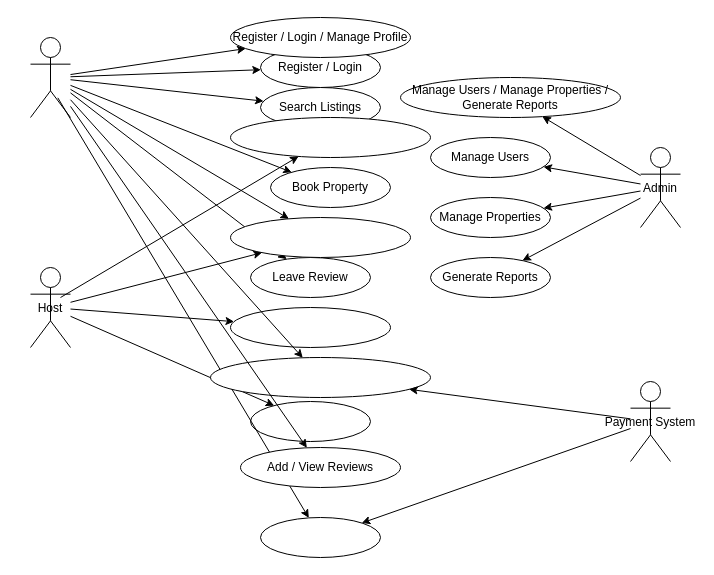
Image size: 714x575. Some labels were removed from this diagram. The shapes that lost their labels are listed below. From the top down, each one's centre as x and y in pixels, then its label:
At pixel 50 77: "User / Guest".
At pixel 330 137: "Add / Edit / Delete / View Property".
At pixel 320 237: "Book / Cancel / View Bookings".
At pixel 310 327: "Add/Edit/Delete Property".
At pixel 320 377: "Make Payment / Request Refund / View Payment History".
At pixel 310 421: "Manage Bookings".
At pixel 320 537: "Make Payment".
